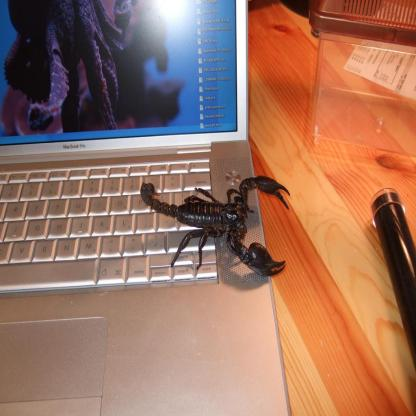board: (0, 0, 291, 415)
